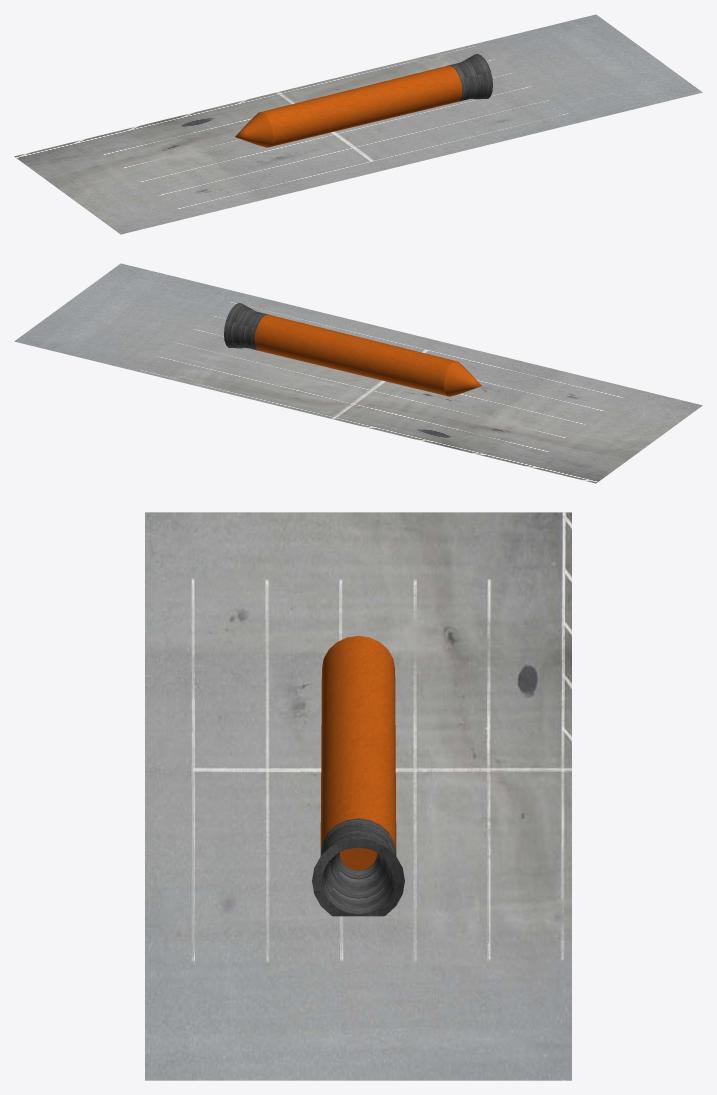
The model's file is SpaceLv2.fbx.
3 renders of one model, top to bottom at view 1: azimuth 30°, elevation 25°; view 2: azimuth 150°, elevation 25°; view 3: azimuth 270°, elevation 25°, orthographic. The views are drawn at different scales.
Parts seen in each view (by area): view 1: polySurface27; view 2: polySurface27; view 3: polySurface27.
Part boxes in pixels (x1=…): polySurface27: x1=14, y1=14, x2=702, y2=234; polySurface27: x1=14, y1=263, x2=702, y2=483; polySurface27: x1=145, y1=512, x2=571, y2=1080.
Size of the model in its own units: 275 by 19.2 by 87.38.
Materials: 3 (3 with a texture image).
